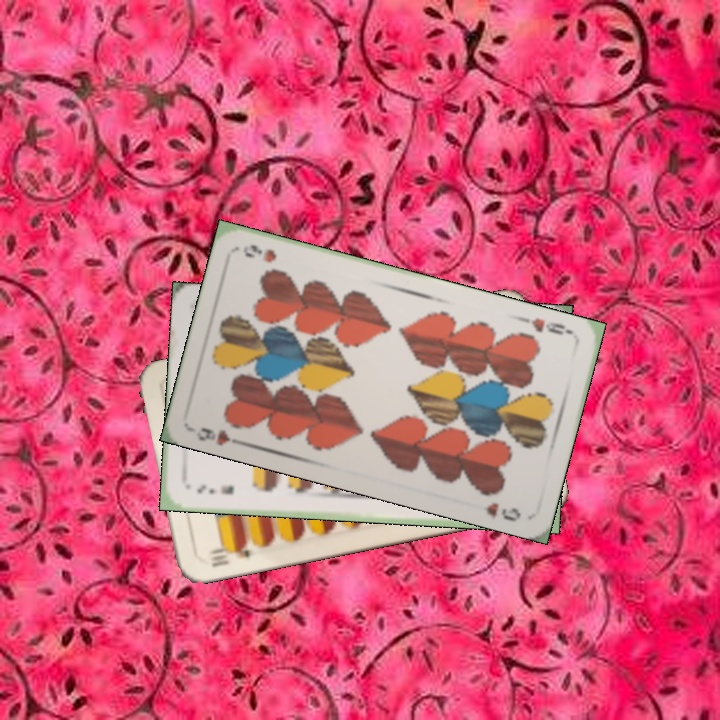E10: (206, 539, 252, 570)
E7: (193, 480, 237, 498)
H9: (518, 313, 575, 338), (192, 423, 247, 448)
